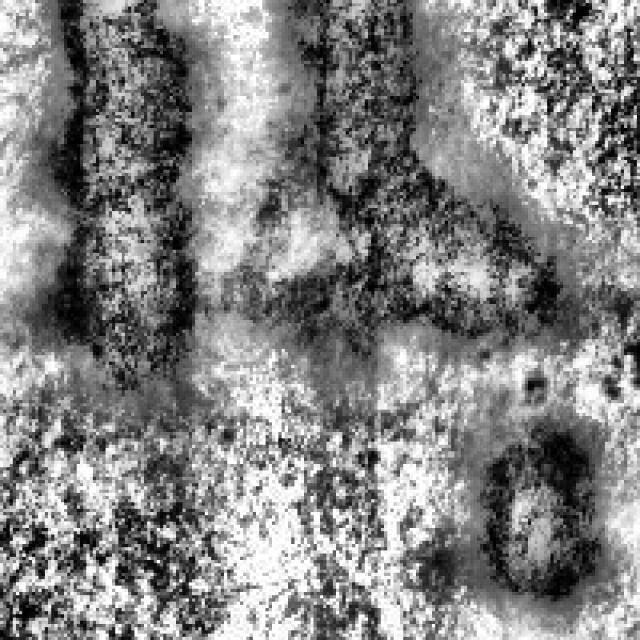Scratches: (236, 0, 564, 352), (22, 0, 202, 387), (461, 371, 605, 595)
